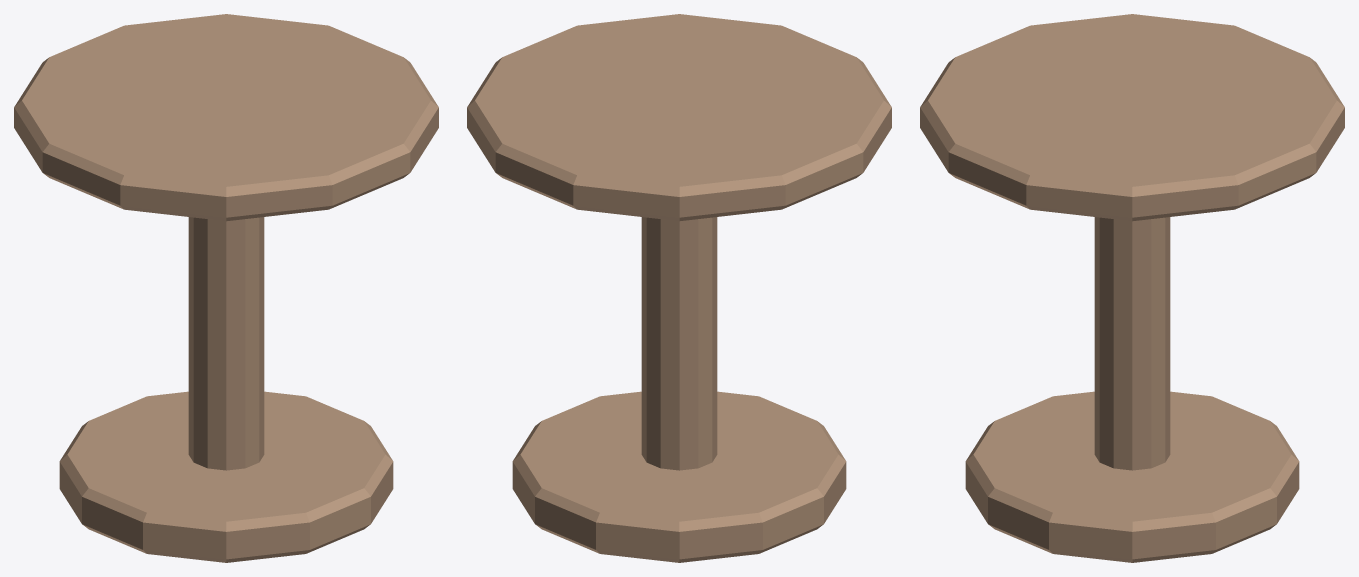
The model's file is SM_Side_Table.fbx.
3 views of the same model, side by side, from view 1: azimuth 30°, elevation 25°; view 2: azimuth 150°, elevation 25°; view 3: azimuth 270°, elevation 25° (orthographic).
Parts seen in each view (by area): view 1: Side_Table; view 2: Side_Table; view 3: Side_Table.
Part boxes in pixels (x1,y1,x2,y2): Side_Table: (14, 14, 438, 562); Side_Table: (467, 14, 891, 562); Side_Table: (920, 14, 1344, 562).
Size of the model in its own units: 56 by 57.5 by 56.
